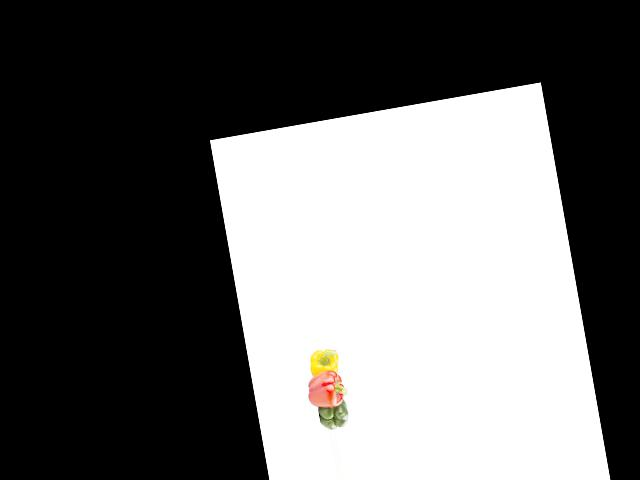bell_pepper: (301, 344, 344, 380)
